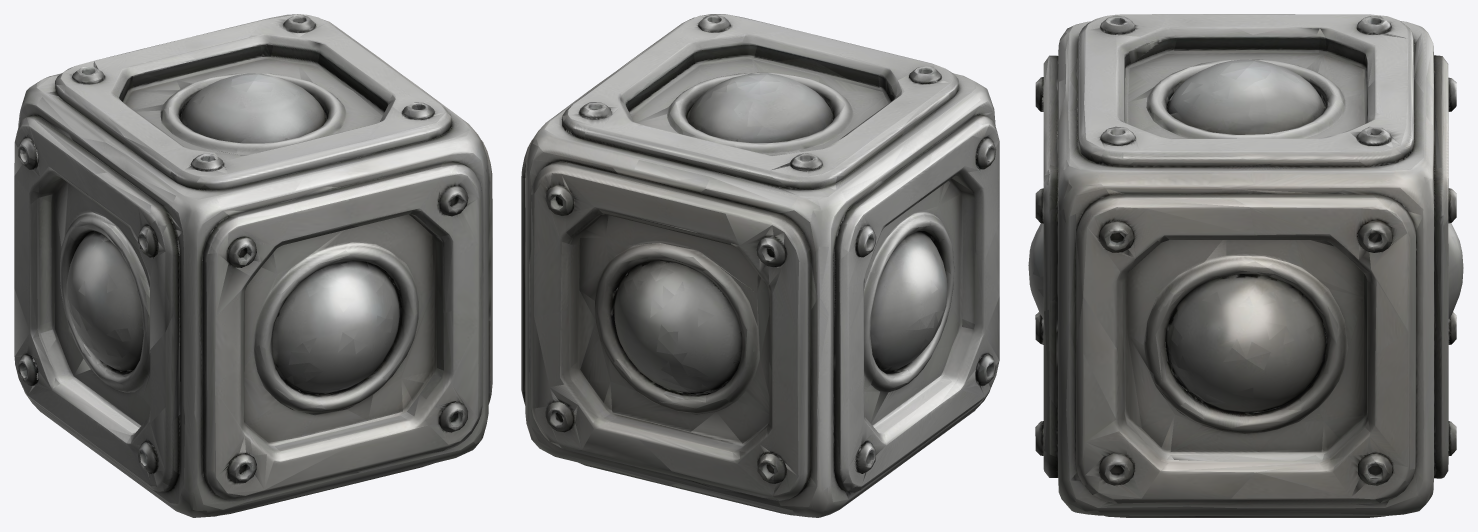
The model's file is kup_metal.glb.
The picture shows the model from 3 angles, left to right: view 1: azimuth 30°, elevation 25°; view 2: azimuth 150°, elevation 25°; view 3: azimuth 270°, elevation 25°; orthographic projection. The views are drawn at different scales.
Parts seen in each view (by area): view 1: tripo_node_c63312c5-94d8-417a-8f4e-b6d51c126fb6; view 2: tripo_node_c63312c5-94d8-417a-8f4e-b6d51c126fb6; view 3: tripo_node_c63312c5-94d8-417a-8f4e-b6d51c126fb6.
Part boxes in pixels (x1,y1,x2,y2): tripo_node_c63312c5-94d8-417a-8f4e-b6d51c126fb6: (14,14,492,517); tripo_node_c63312c5-94d8-417a-8f4e-b6d51c126fb6: (521,14,999,517); tripo_node_c63312c5-94d8-417a-8f4e-b6d51c126fb6: (1028,14,1463,517).
Bounding box in the file's own units: 0.9786 × 0.9802 × 0.9782.
1 material, 1 textured.
